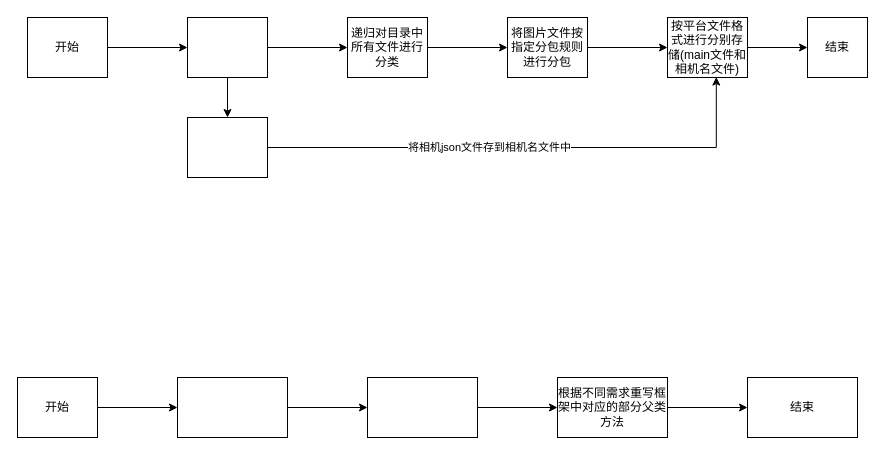
The diagram is 885 pixels wide and 455 high, and some of its shapes have lost their labels. Each missing label, with the centre of its shape:
"套用3D导入脚本框架,设置分包策略" goes at (x=422, y=407).
"存入json文件" goes at (x=227, y=147).
"设置相机参数(根据不同的内参外参格式进行转化)" goes at (x=227, y=47).
"设置相机参数(根据不同相机的不同的内参外参格式进行转化)" goes at (x=232, y=407).
